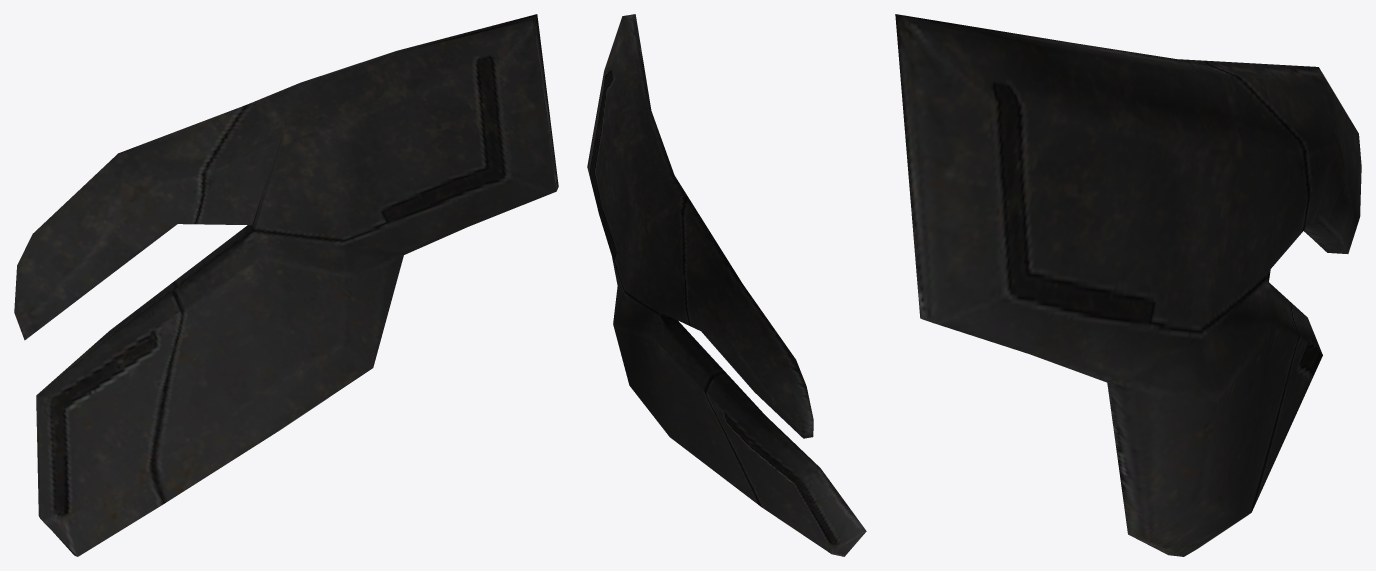
Rendered from armor_chest_high_right.dae.
3 views of the same model, side by side, from view 1: azimuth 30°, elevation 25°; view 2: azimuth 150°, elevation 25°; view 3: azimuth 270°, elevation 25° (orthographic). The views are drawn at different scales.
Parts seen in each view (by area): view 1: armor_chest_high_right; view 2: armor_chest_high_right; view 3: armor_chest_high_right.
Part boxes in pixels (box(x1,y1,x2,y2)): armor_chest_high_right: box(14, 14, 558, 556); armor_chest_high_right: box(587, 14, 866, 556); armor_chest_high_right: box(895, 14, 1361, 556).
Bounding box in the file's own units: 0.4405 × 0.2738 × 0.5095.
1 material, 1 textured.
